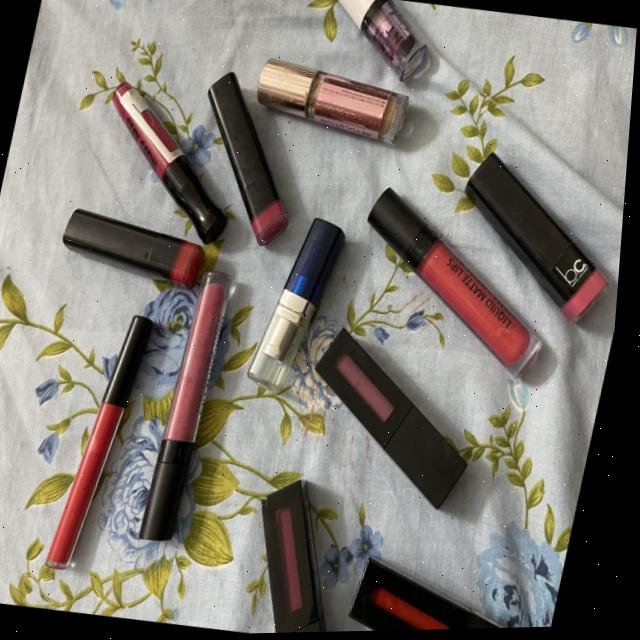Tint: (303, 0, 446, 93)
concealer: (240, 41, 424, 158)
lip gloss: (335, 174, 584, 396), (286, 309, 504, 525), (42, 295, 175, 579), (130, 261, 253, 559), (80, 76, 247, 248), (238, 459, 381, 635), (342, 528, 577, 633)
lip stick: (433, 121, 632, 335), (171, 63, 319, 254), (239, 207, 355, 401), (50, 198, 222, 300)
